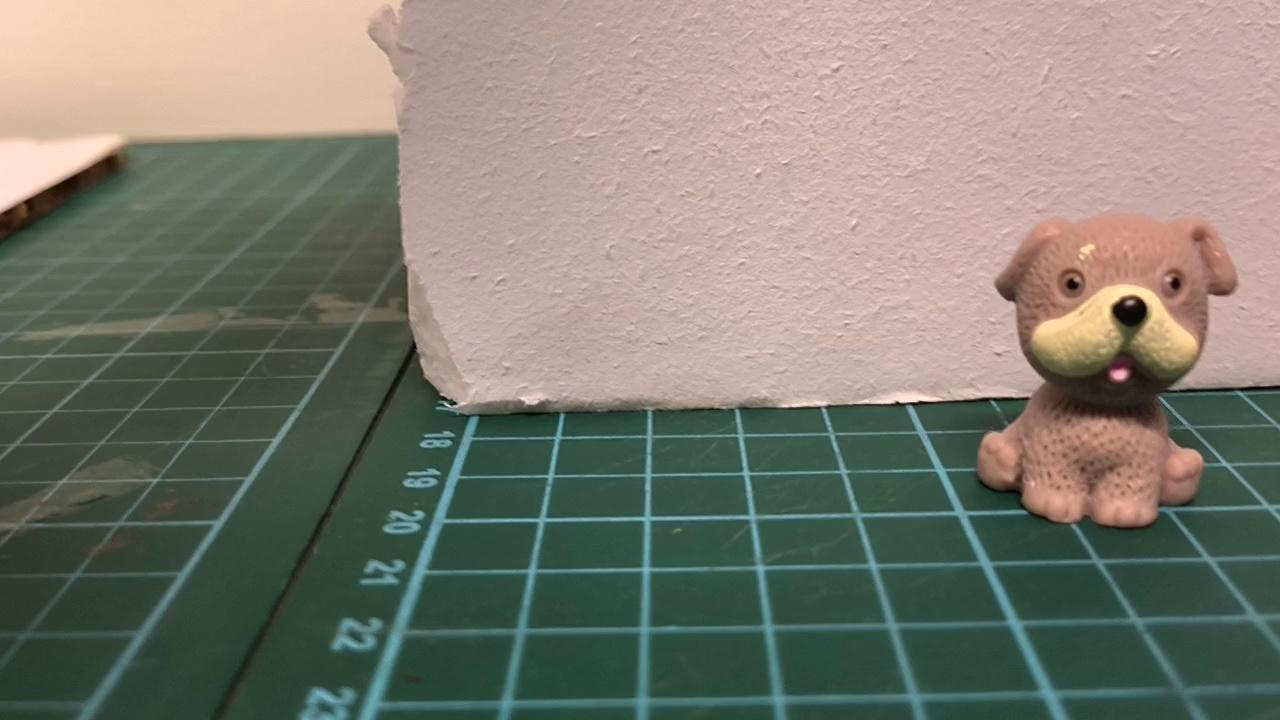pet: (976, 217, 1239, 528)
